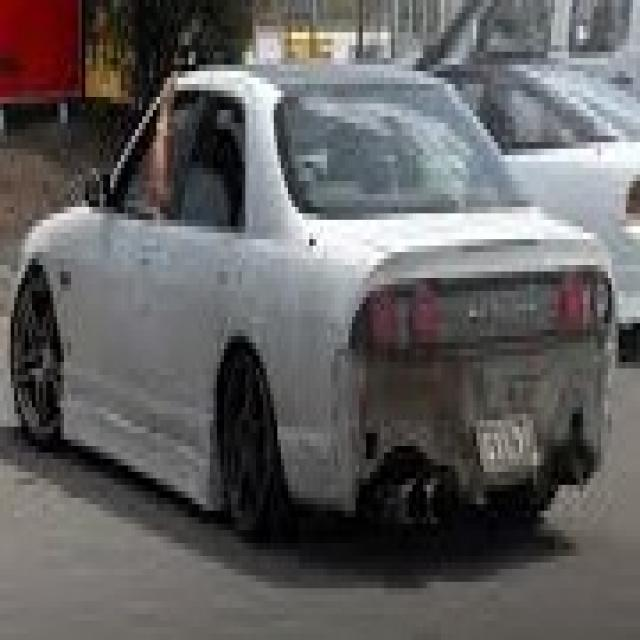moderate: (324, 247, 597, 538)
